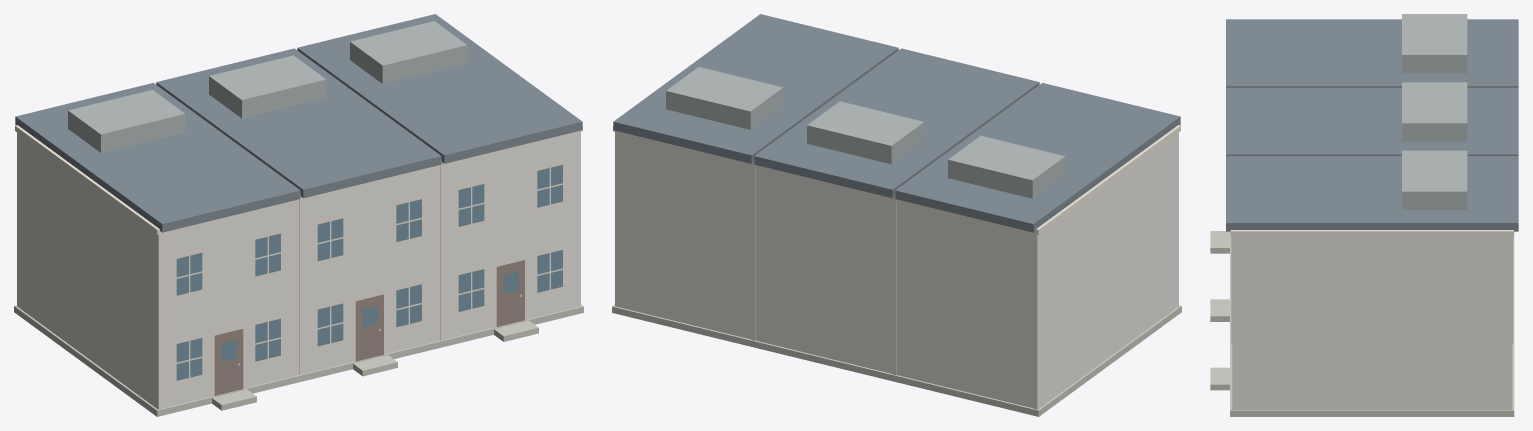
File: townhouse-modern.glb
3 views of the same model, side by side, from view 1: azimuth 30°, elevation 25°; view 2: azimuth 150°, elevation 25°; view 3: azimuth 270°, elevation 25° (orthographic).
Visible parts, largest first — view 1: townhouse-modern; view 2: townhouse-modern; view 3: townhouse-modern.
Part boxes in pixels (x1,y1,x2,y2): townhouse-modern: (14, 14, 583, 416); townhouse-modern: (612, 14, 1181, 416); townhouse-modern: (1210, 14, 1518, 416).
Size of the model in its own units: 15.74 by 7.47 by 9.9.
